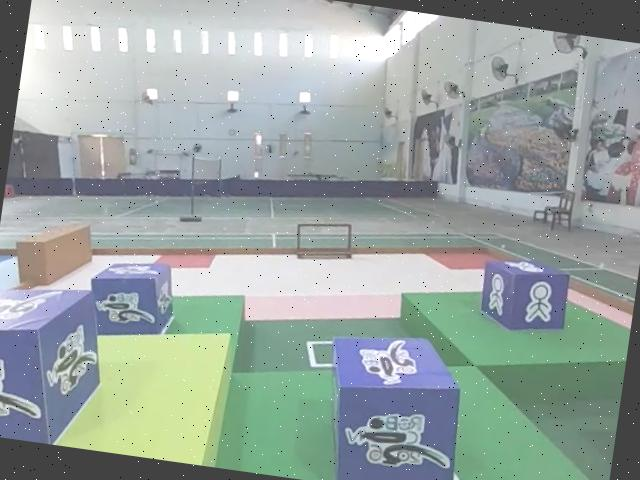R1 Blue: (313, 320, 472, 480), (0, 279, 109, 449), (82, 254, 182, 347)
R2 Real Blue: (471, 252, 571, 339)
